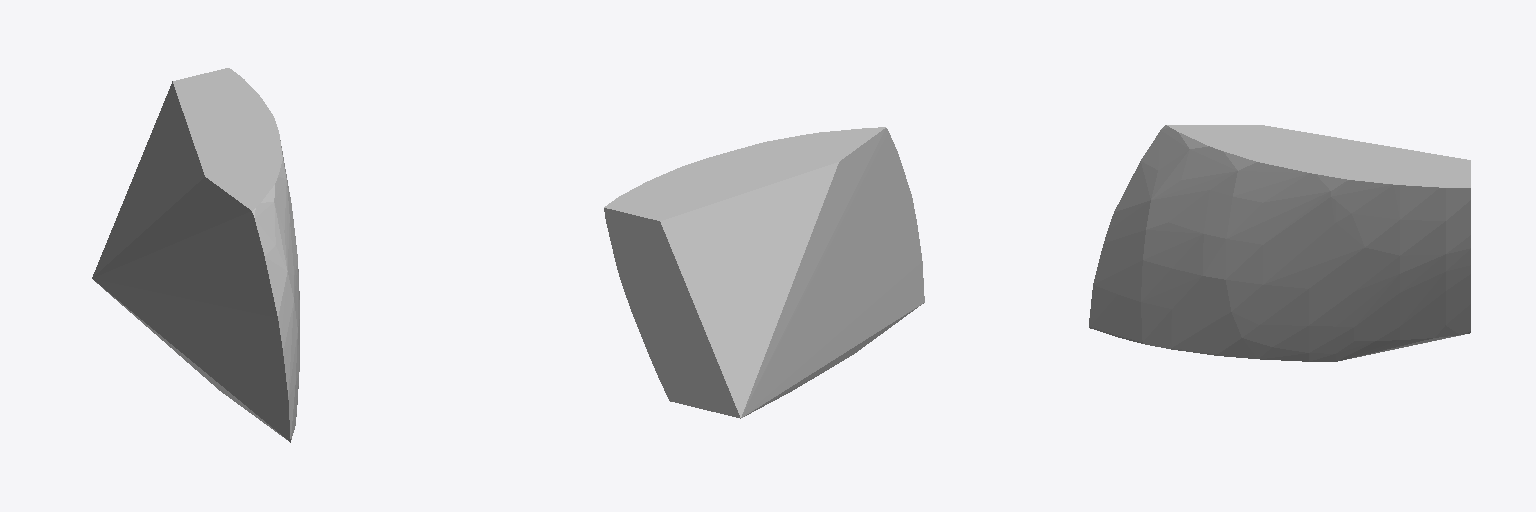
The model's file is phantom-elastrat_collision_70.obj.
3 views of the same model, side by side, from view 1: azimuth 30°, elevation 25°; view 2: azimuth 150°, elevation 25°; view 3: azimuth 270°, elevation 25° (orthographic).
Bounding box in the file's own units: 0.004 × 0.0057 × 0.0097.